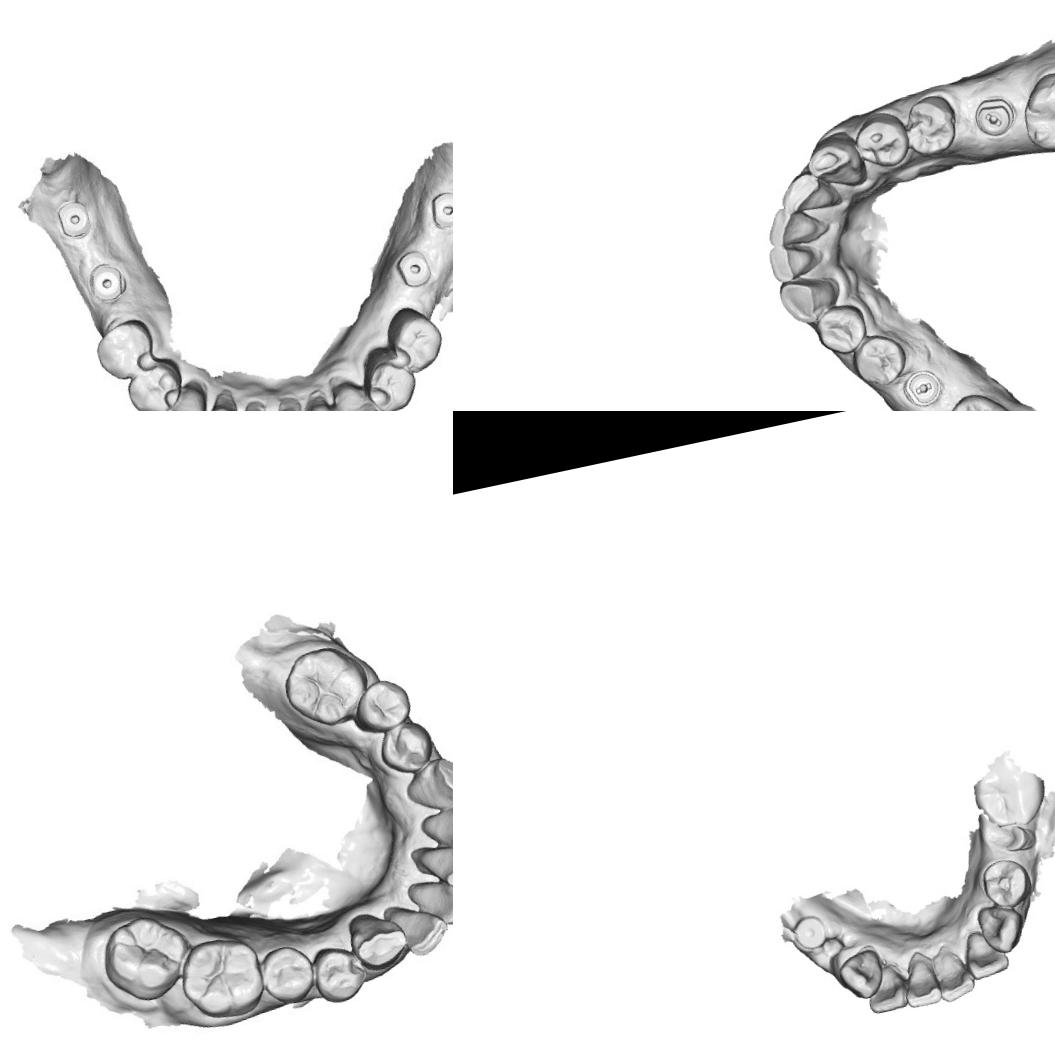canine: (801, 128, 868, 198), (775, 268, 850, 330), (348, 907, 411, 971), (974, 900, 1028, 958), (834, 947, 887, 1004), (404, 757, 453, 818), (330, 377, 384, 411), (154, 382, 215, 411)
implant: (45, 193, 104, 253), (387, 241, 438, 291), (82, 255, 130, 307), (790, 912, 830, 952), (424, 185, 453, 230)
implant_minus: (970, 93, 1018, 143), (899, 365, 949, 411)
incisor: (386, 898, 449, 960), (773, 168, 839, 220), (762, 198, 826, 250), (928, 940, 977, 1004), (765, 236, 823, 288), (860, 961, 912, 1019), (896, 948, 944, 1010), (960, 925, 1012, 982), (408, 871, 453, 928), (411, 835, 453, 890), (420, 798, 453, 858), (293, 390, 348, 411), (193, 392, 245, 411), (259, 396, 310, 411)
molar: (96, 909, 194, 1008), (276, 638, 373, 738), (176, 930, 272, 1026), (969, 763, 1053, 834), (1014, 61, 1055, 162), (933, 383, 1027, 411)
premolar: (85, 317, 161, 385), (896, 89, 965, 162), (846, 327, 916, 394), (373, 720, 444, 786), (847, 108, 914, 176), (383, 303, 446, 372), (354, 346, 420, 411), (809, 298, 873, 361), (255, 942, 317, 1006), (978, 854, 1036, 913), (358, 680, 418, 736), (118, 361, 185, 411), (317, 950, 366, 1002)
